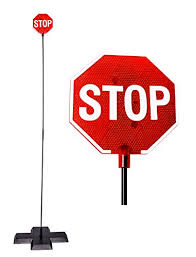Stop: (70, 52, 181, 153)
